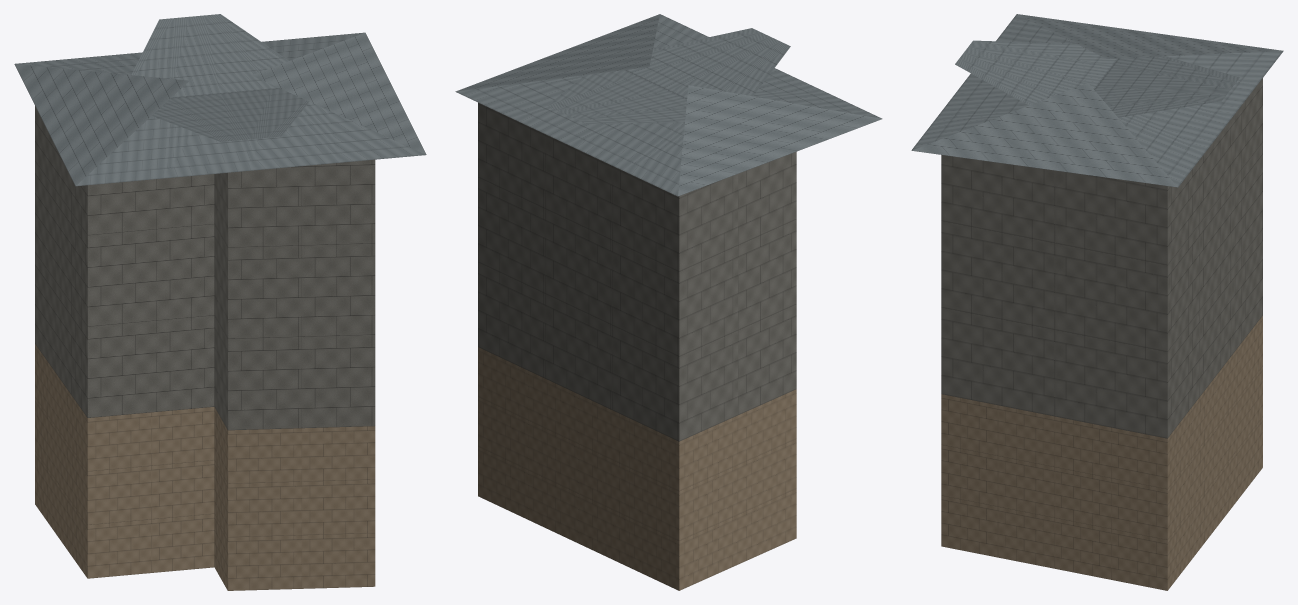
Rendered from bld_c23_-48_528.gltf.
The picture shows the model from 3 angles, left to right: view 1: azimuth 30°, elevation 25°; view 2: azimuth 150°, elevation 25°; view 3: azimuth 270°, elevation 25°; orthographic projection. The views are drawn at different scales.
Parts seen in each view (by area): view 1: bld_c23_-48_528; view 2: bld_c23_-48_528; view 3: bld_c23_-48_528.
Part boxes in pixels (x1=…): bld_c23_-48_528: x1=14, y1=14, x2=426, y2=590; bld_c23_-48_528: x1=455, y1=14, x2=882, y2=590; bld_c23_-48_528: x1=911, y1=14, x2=1283, y2=590.
Bounding box in the file's own units: 12.46 × 14.8 × 11.31.
Materials: 3 (3 with a texture image).
